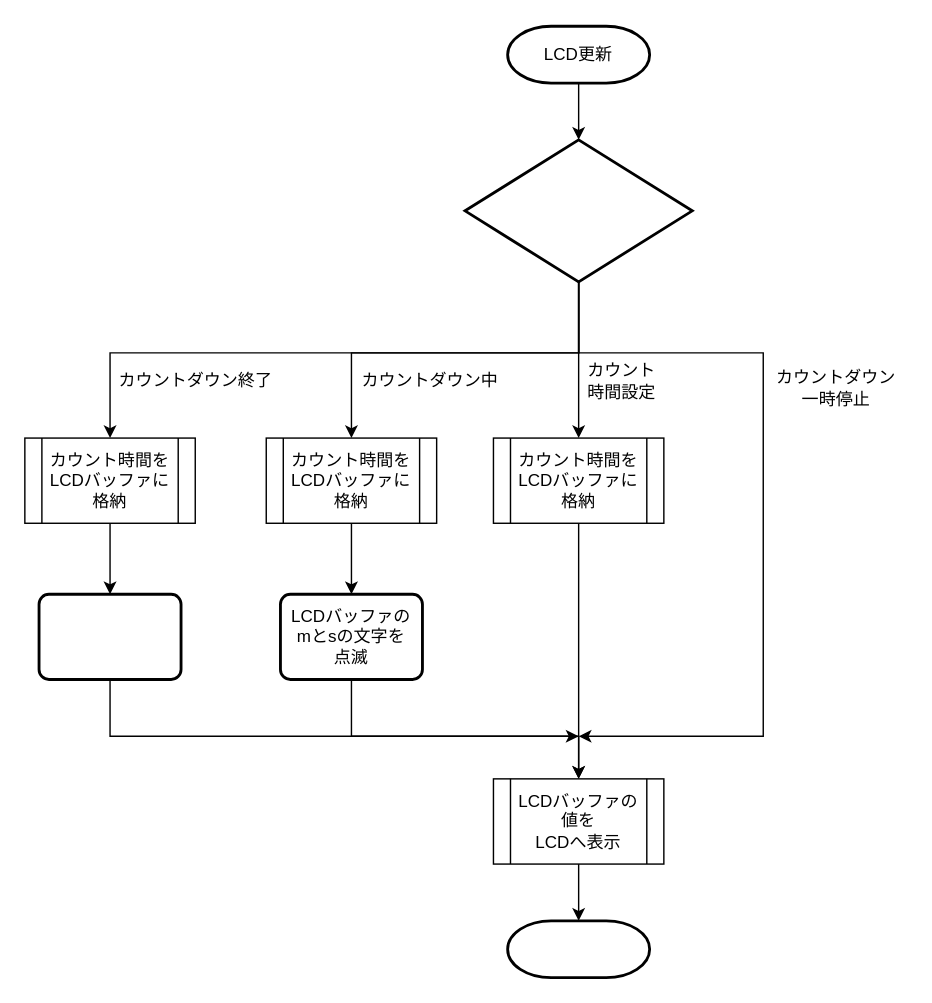
Some shapes in this 932 by 1003 pixel diagram are drawn without their labels. Here are the shapes that lost their labels. From the top down, the centre of each, then its label:
At point (578, 210): "キッチンタイマー状態 は = ?".
At point (109, 636): "LCDバッファの 文字を点滅".
At point (578, 948): "end".
